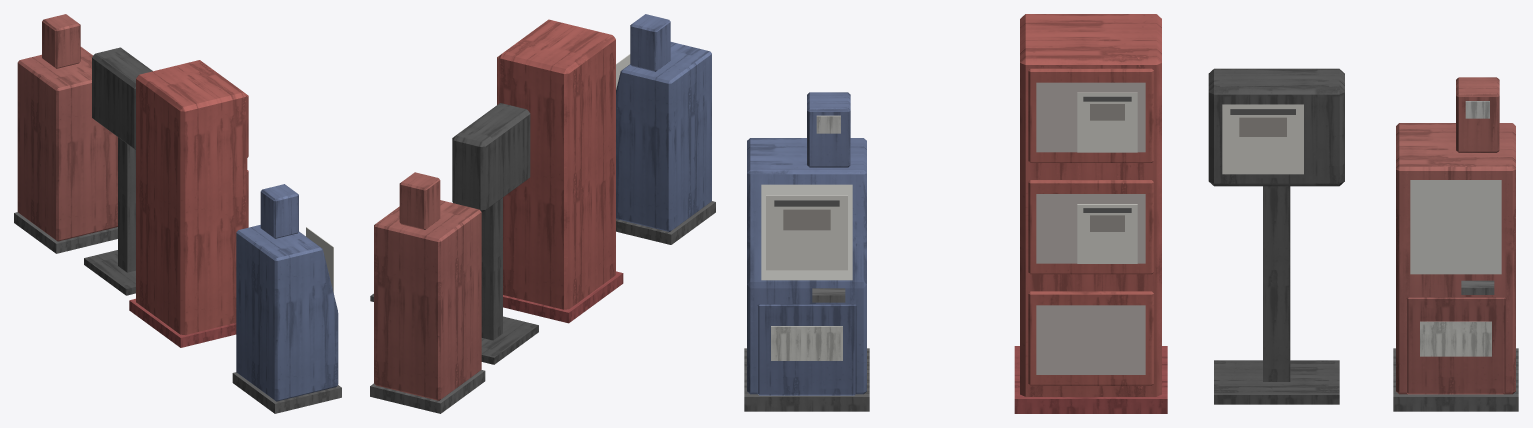
The model's file is BC2_NEWSBOX01.glb.
The picture shows the model from 3 angles, left to right: view 1: azimuth 30°, elevation 25°; view 2: azimuth 150°, elevation 25°; view 3: azimuth 270°, elevation 25°; orthographic projection. The views are drawn at different scales.
Parts seen in each view (by area): view 1: BC2_NEWSBOX01_paint, BC2_NEWSBOX01_dark, BC2_NEWSBOX01_paper; view 2: BC2_NEWSBOX01_paint, BC2_NEWSBOX01_dark; view 3: BC2_NEWSBOX01_paint, BC2_NEWSBOX01_paper, BC2_NEWSBOX01_dark.
Boxes of the visible parts, bbox=[...] form: BC2_NEWSBOX01_paint: bbox=[17, 14, 338, 401]; BC2_NEWSBOX01_dark: bbox=[14, 47, 341, 413]; BC2_NEWSBOX01_paper: bbox=[306, 227, 333, 293]; BC2_NEWSBOX01_paint: bbox=[374, 14, 711, 400]; BC2_NEWSBOX01_dark: bbox=[370, 103, 715, 413]; BC2_NEWSBOX01_paint: bbox=[747, 14, 1515, 396]; BC2_NEWSBOX01_paper: bbox=[761, 82, 1501, 374]; BC2_NEWSBOX01_dark: bbox=[744, 68, 1518, 413].
Bounding box in the file's own units: 0.49 × 1.42 × 2.84.
Materials: 3 (2 with a texture image).
